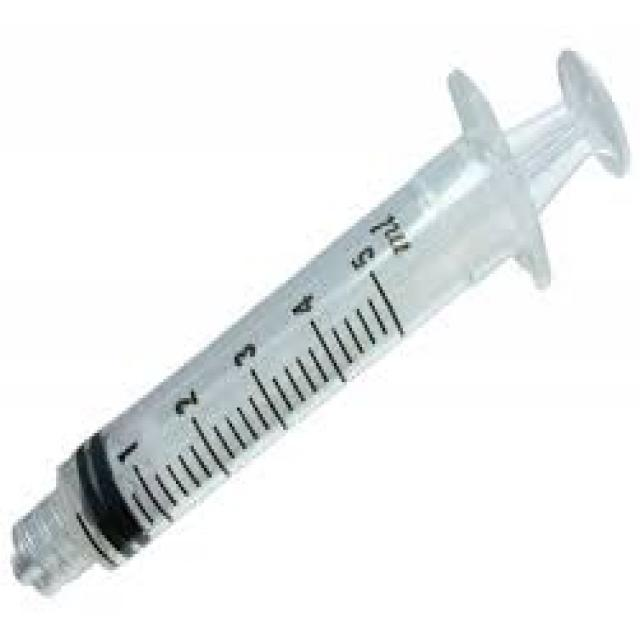syringe: (53, 64, 598, 611)
